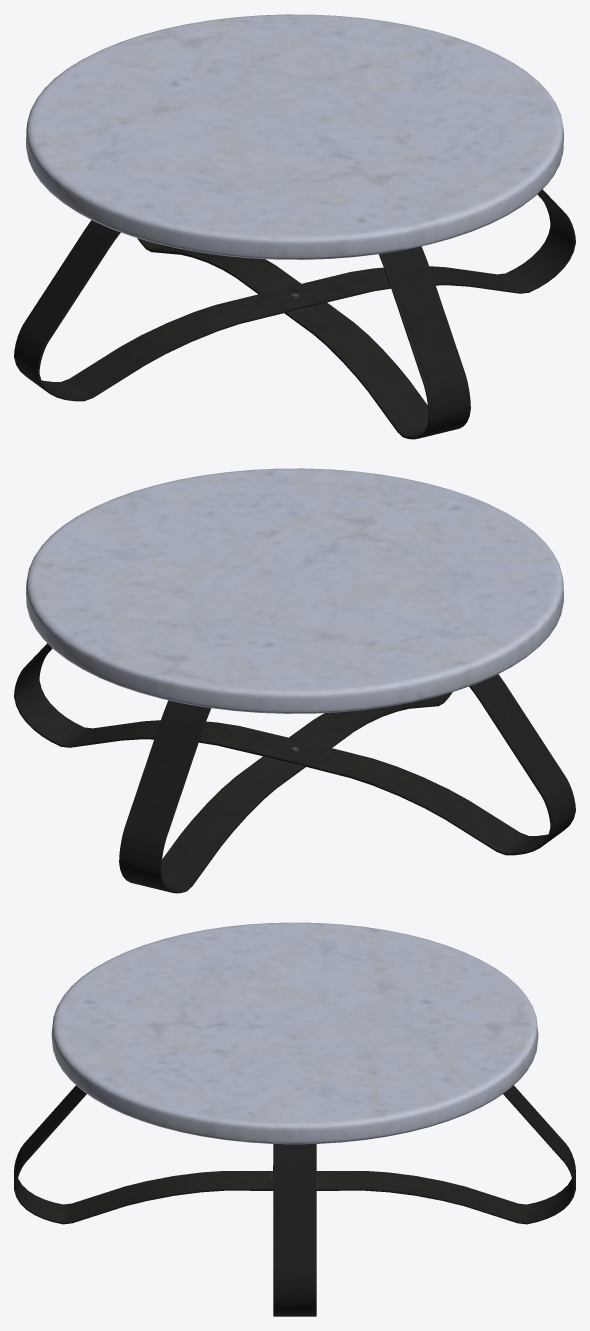
The model's file is table_coffee.glb.
3 views of the same model, one above another, from view 1: azimuth 30°, elevation 25°; view 2: azimuth 150°, elevation 25°; view 3: azimuth 270°, elevation 25° (orthographic). The views are drawn at different scales.
Visible parts, largest first — view 1: mesh; view 2: mesh; view 3: mesh.
Part boxes in pixels (left/top/right/bottom): mesh: left=14, top=14, right=575, bottom=439; mesh: left=14, top=468, right=575, bottom=893; mesh: left=14, top=922, right=575, bottom=1316.
Bounding box in the file's own units: 1.3 × 0.4911 × 1.3.
Materials: 1 (1 with a texture image).
